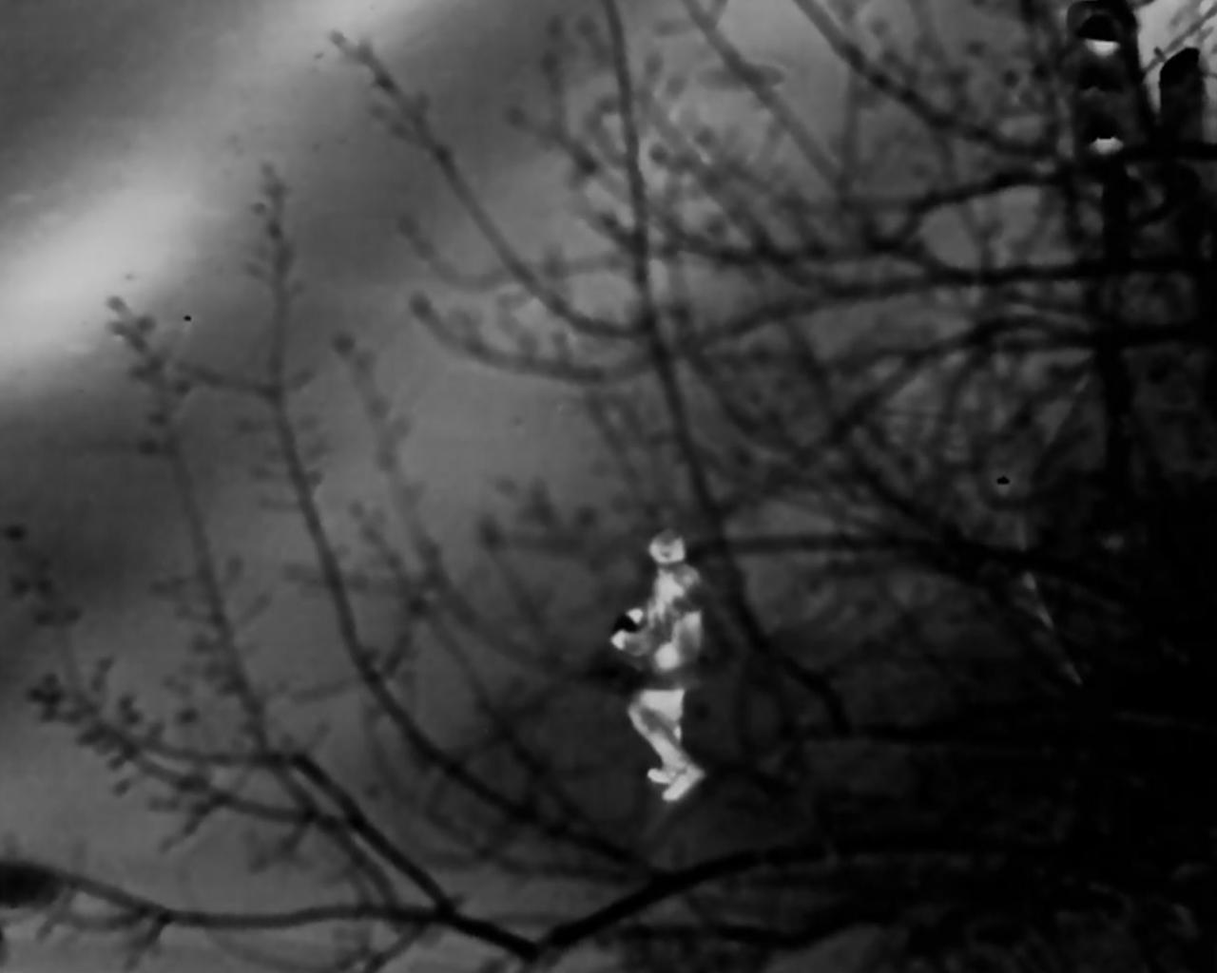person: (605, 525, 733, 776)
